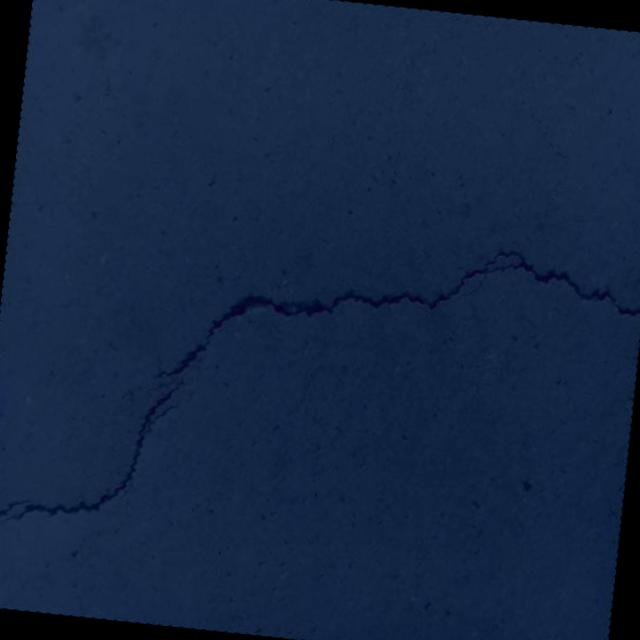crack: (154, 214, 640, 429), (0, 357, 191, 543), (582, 456, 627, 543)
